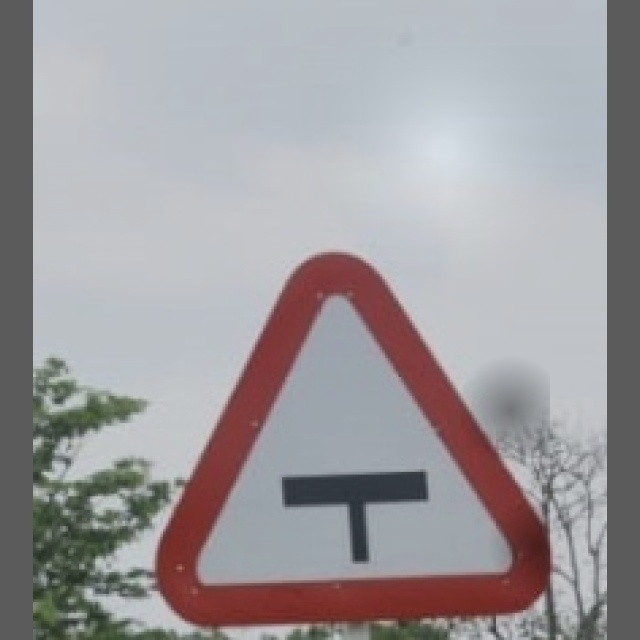T_Intersection: (164, 254, 550, 611)
